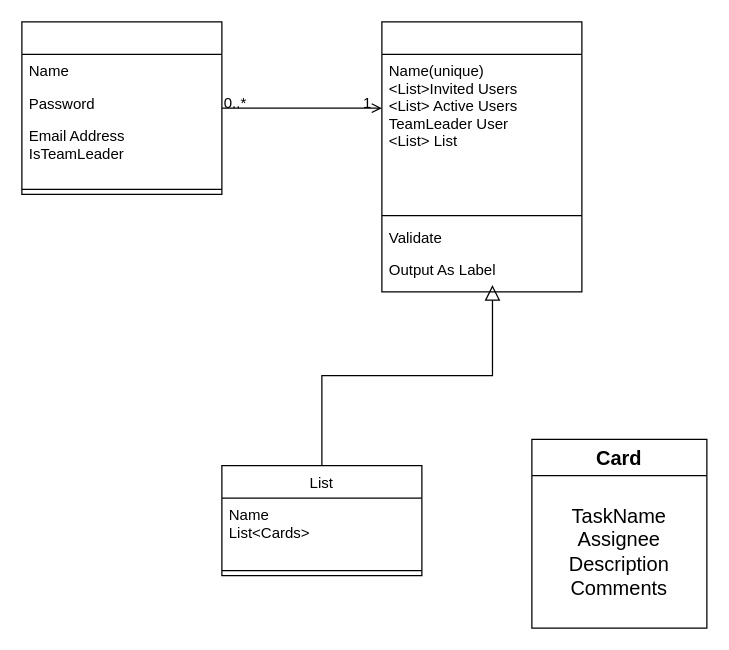
The diagram is 729 pixels wide and 650 high, and some of its shapes have lost their labels. Here are the shapes that lost their labels. From the top down, the box of each, then its label:
(21, 21, 222, 194): User
(381, 21, 582, 292): Board
